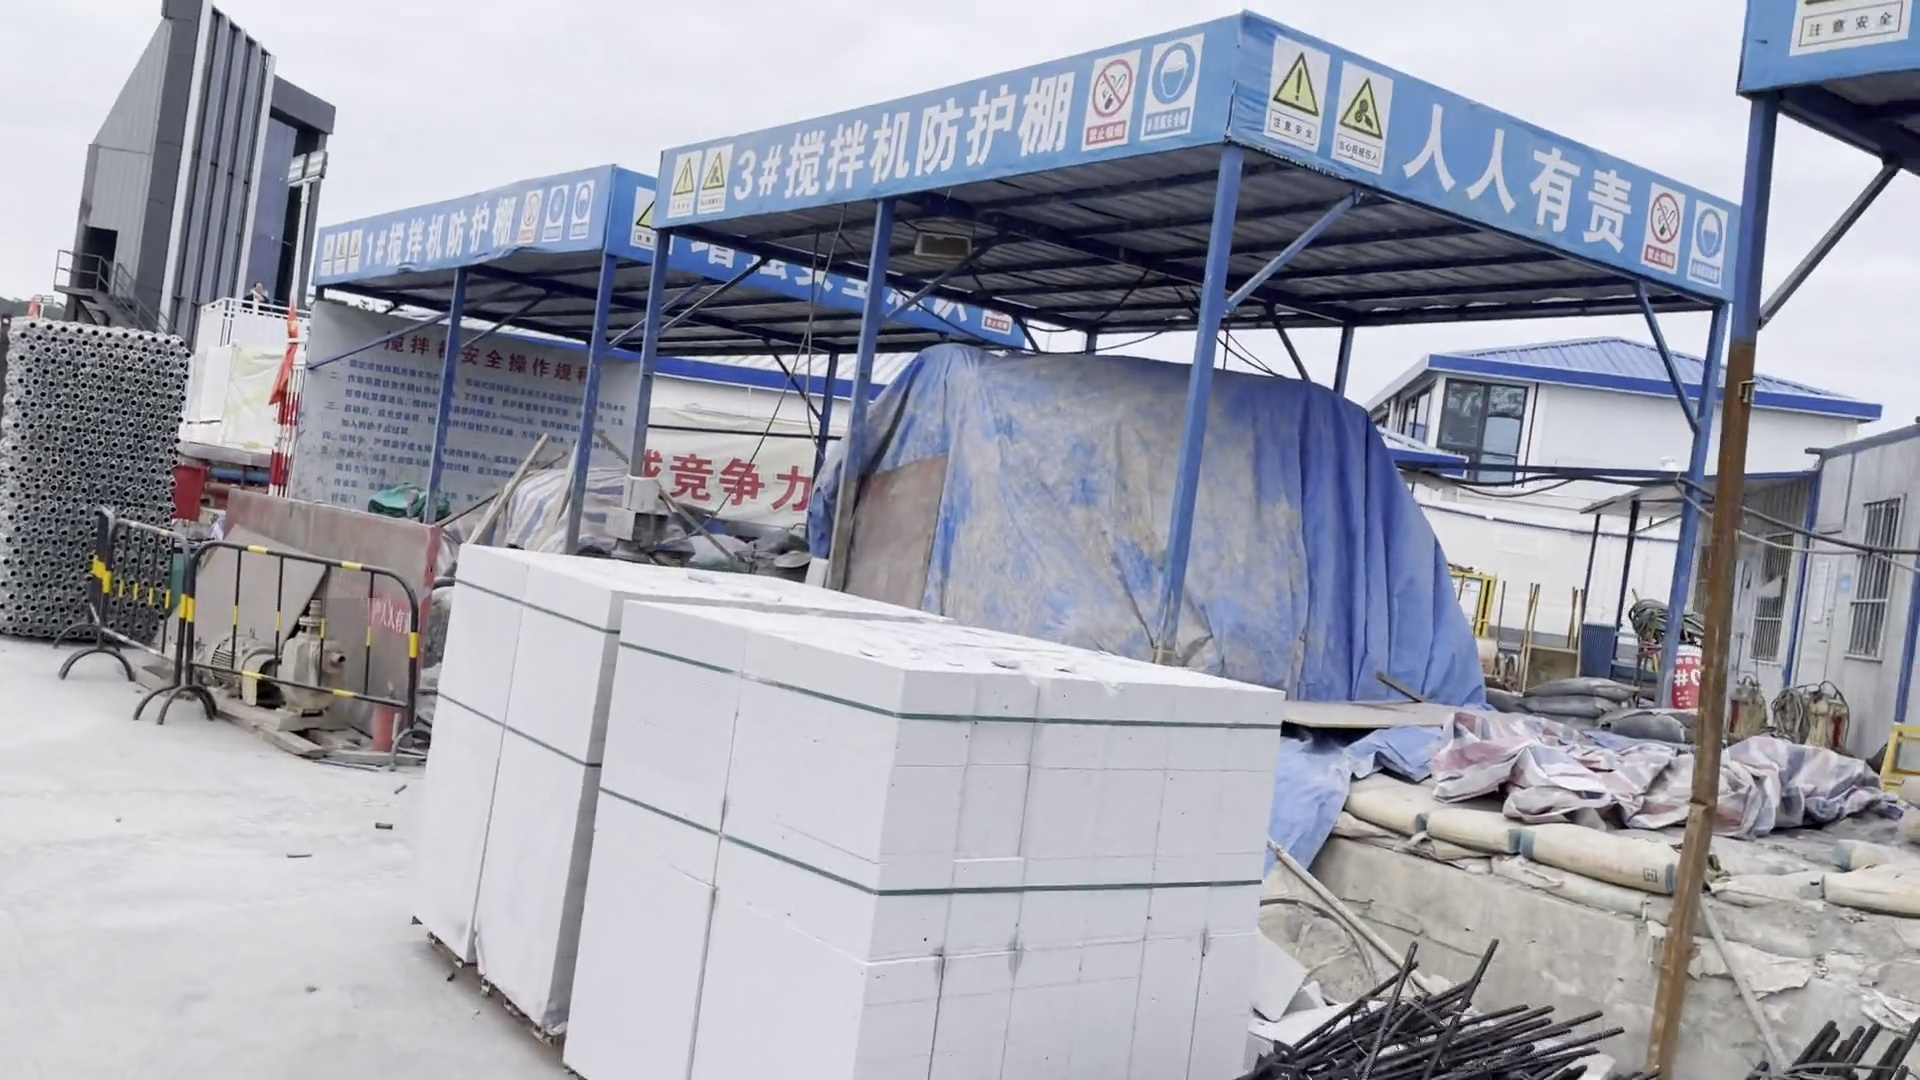brick: (386, 543, 1283, 1080)
scaffold: (1, 323, 191, 653)
slogan: (1407, 90, 1636, 248)
